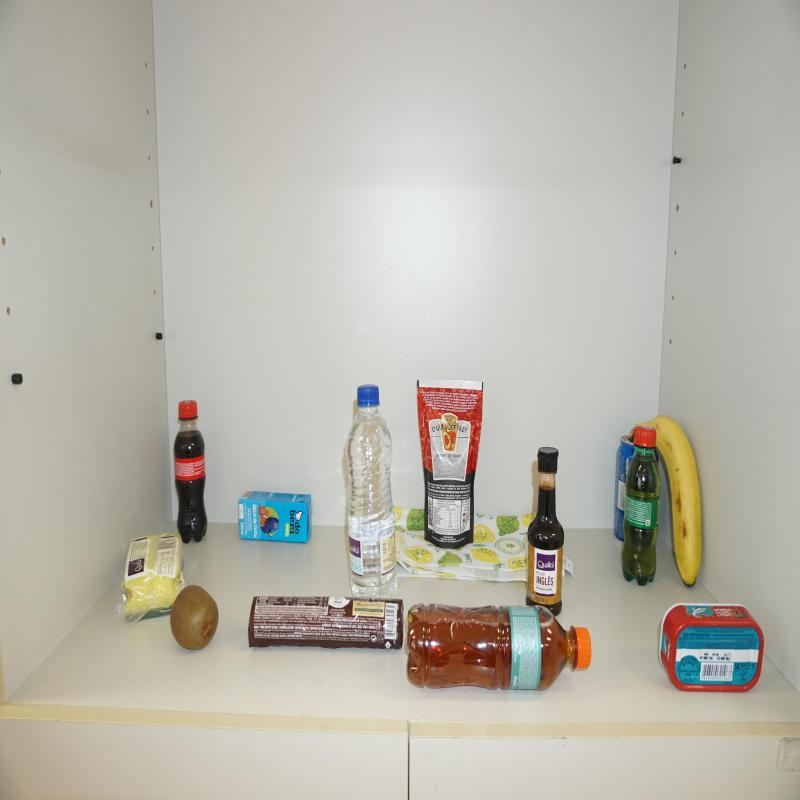Banana: (651, 416, 706, 587)
Cloth: (394, 507, 528, 582)
CoconutWater: (238, 491, 312, 544)
Coke: (173, 400, 208, 544)
Cookies: (247, 598, 404, 651)
EnglishSauce: (527, 447, 565, 619)
Guarana: (622, 426, 661, 587)
IceTea: (407, 604, 592, 691)
Kiwi: (168, 585, 219, 654)
Sponge: (120, 532, 186, 624)
TomatoSauce: (416, 382, 485, 550)
Tonic: (614, 435, 634, 542)
TunaCan: (659, 604, 766, 697)
Water: (345, 385, 396, 596)
